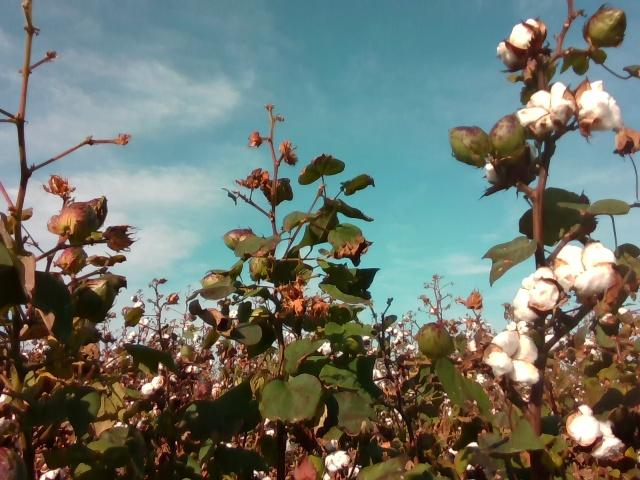cotton_ready: (556, 242, 616, 295), (518, 83, 576, 136), (495, 17, 548, 71), (567, 404, 621, 457), (486, 333, 537, 385), (578, 80, 623, 133), (514, 268, 557, 322), (593, 305, 634, 348), (485, 158, 504, 185)
